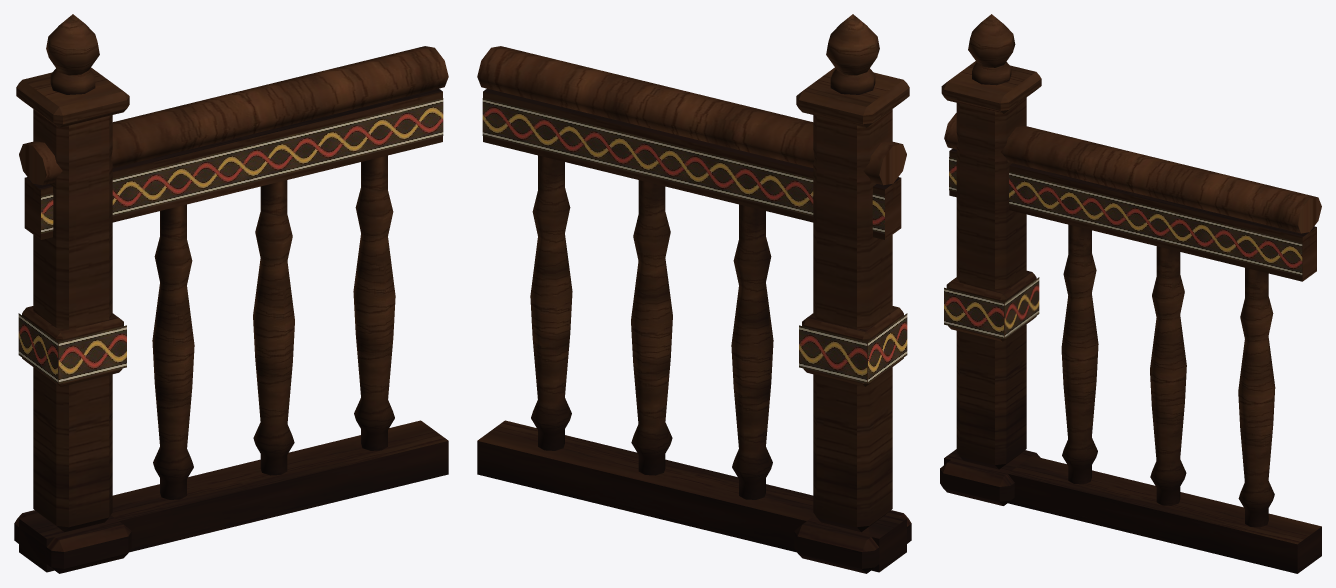
The model's file is interior_railing.glb.
3 renders of one model, left to right at view 1: azimuth 30°, elevation 25°; view 2: azimuth 150°, elevation 25°; view 3: azimuth 330°, elevation 25°, orthographic. The views are drawn at different scales.
Visible parts, largest first — view 1: interior_railing; view 2: interior_railing; view 3: interior_railing.
Boxes of the visible parts, x1,y1,x2,y2 form: interior_railing: (14, 14, 448, 573); interior_railing: (477, 14, 911, 573); interior_railing: (940, 14, 1321, 573).
Bounding box in the file's own units: 1 × 1.28 × 0.2.
Materials: 2 (2 with a texture image).
